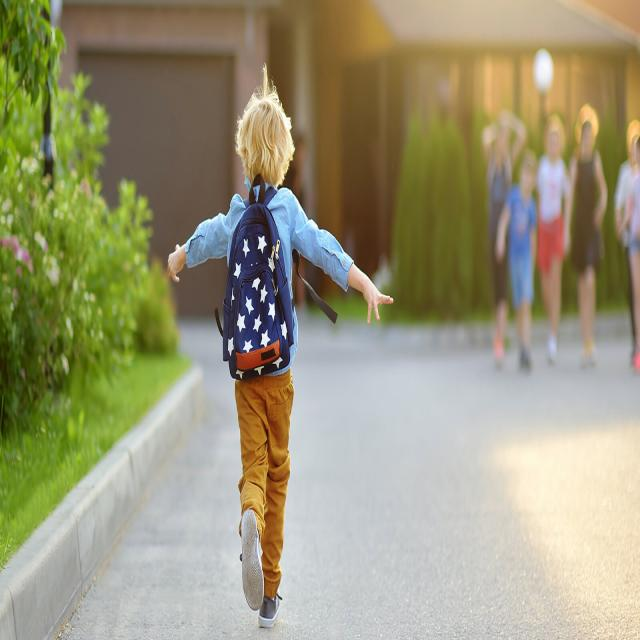child: (162, 85, 395, 628)
